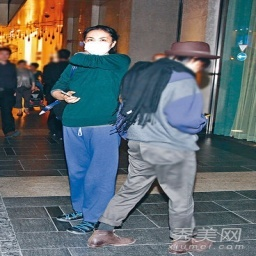correctlyWear: (83, 33, 116, 55)
noWear: (1, 50, 10, 60)
